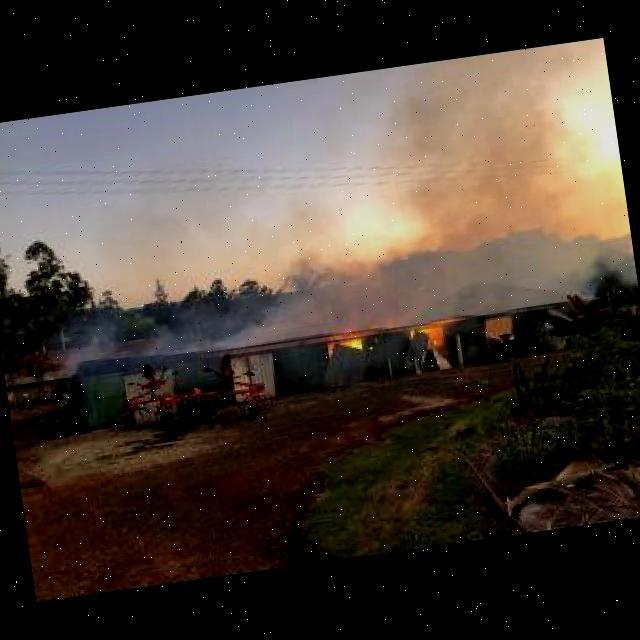Fire: (418, 318, 453, 335), (345, 337, 364, 351)
Smoke: (364, 46, 608, 277), (232, 240, 397, 351), (63, 289, 240, 377)
